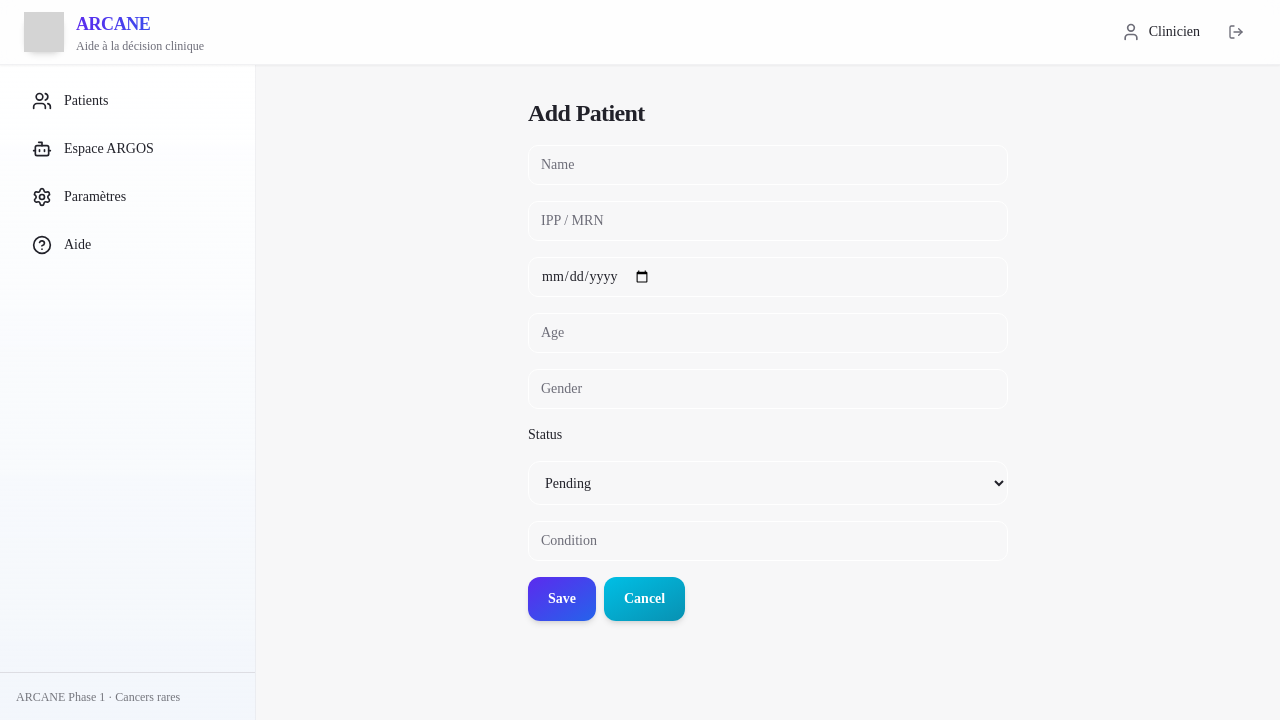
it: AddPatient flow › affiche un message d'erreur en cas d'echec API
This screenshot has width=1280, height=720.
In the field with placeholder "Name": x=768, y=165 [528,145,1008,185], type "Patient KO"
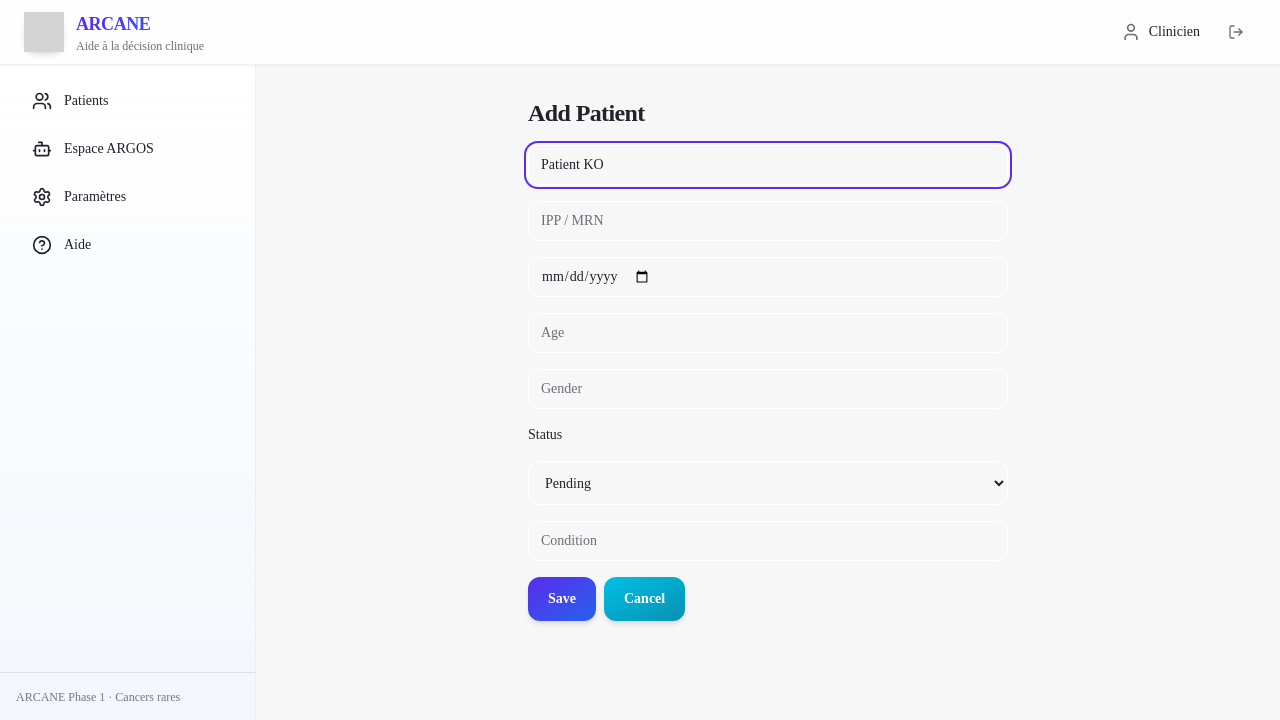
Click the button "Save": x=562, y=599 [528,577,596,621]
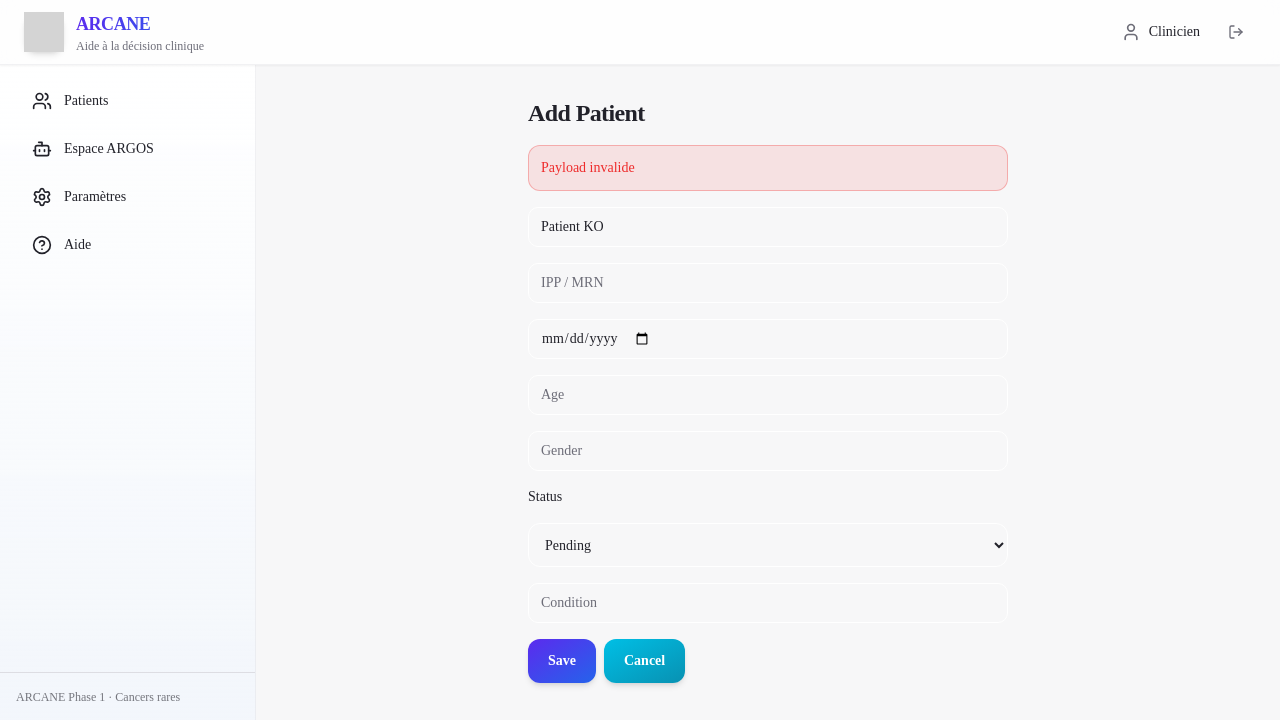
Expected: the text "Payload invalide" is shown, [528,145,1008,191]
